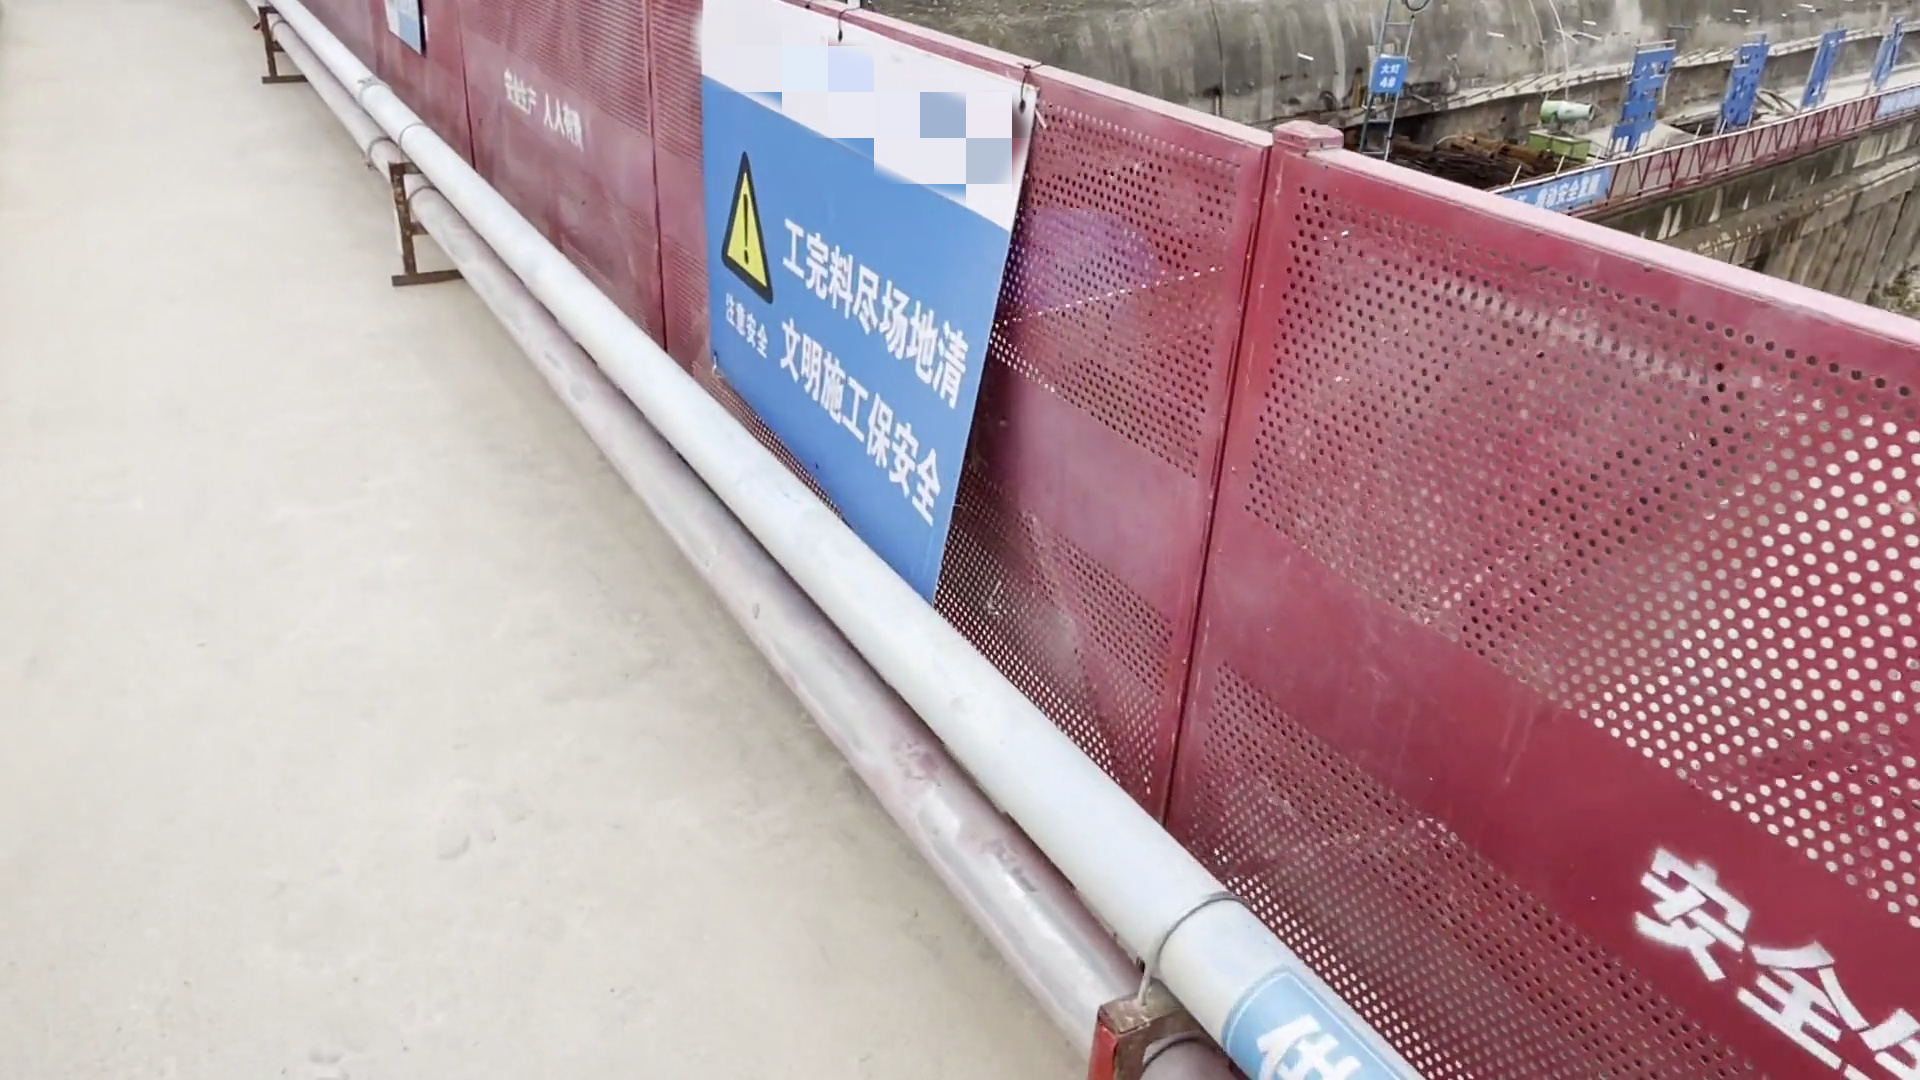fence: (1170, 127, 1920, 1048)
slogan: (665, 1, 1067, 630)
